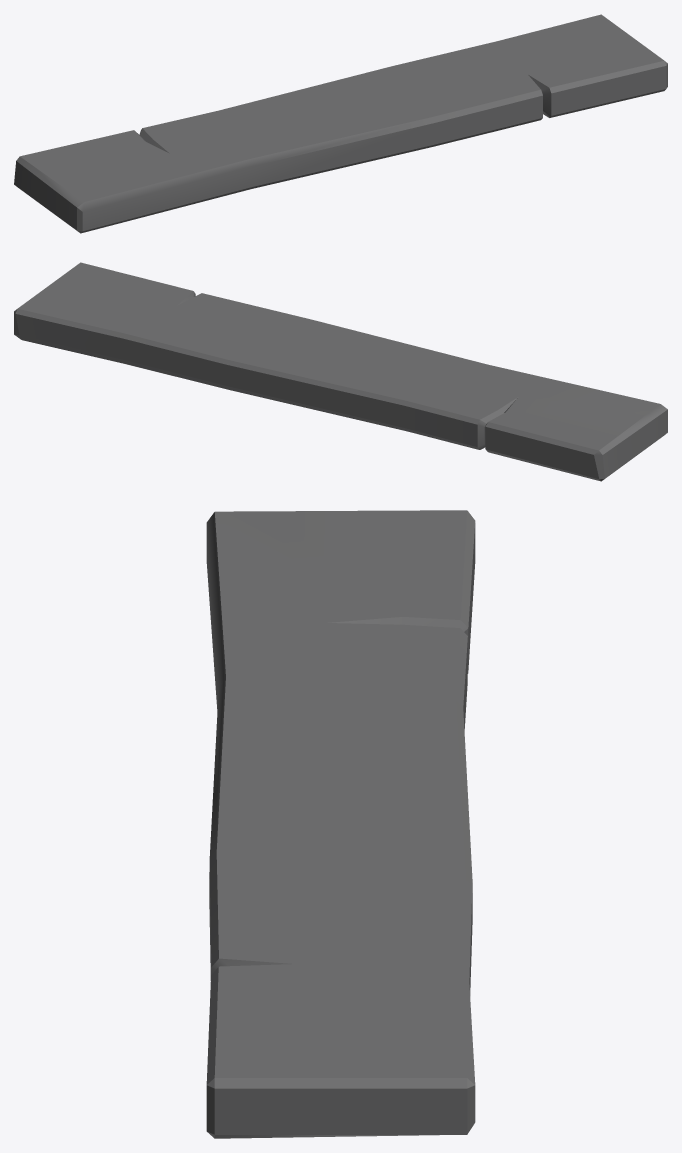
The model's file is Stone_Slab.fbx.
3 views of the same model, one above another, from view 1: azimuth 30°, elevation 25°; view 2: azimuth 150°, elevation 25°; view 3: azimuth 270°, elevation 25° (orthographic). The views are drawn at different scales.
Parts seen in each view (by area): view 1: Stone_Slab; view 2: Stone_Slab; view 3: Stone_Slab.
Part boxes in pixels (box(x1,y1,x2,y2)): Stone_Slab: box(14, 14, 667, 233); Stone_Slab: box(14, 262, 667, 481); Stone_Slab: box(206, 510, 475, 1138).
Size of the model in its own units: 81.27 by 4 by 16.
